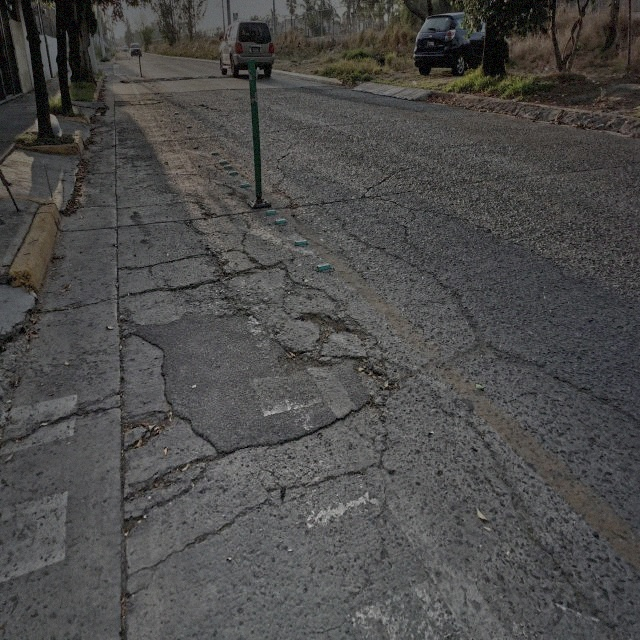pothole: (297, 299, 354, 353), (113, 406, 167, 443), (362, 361, 395, 410)
